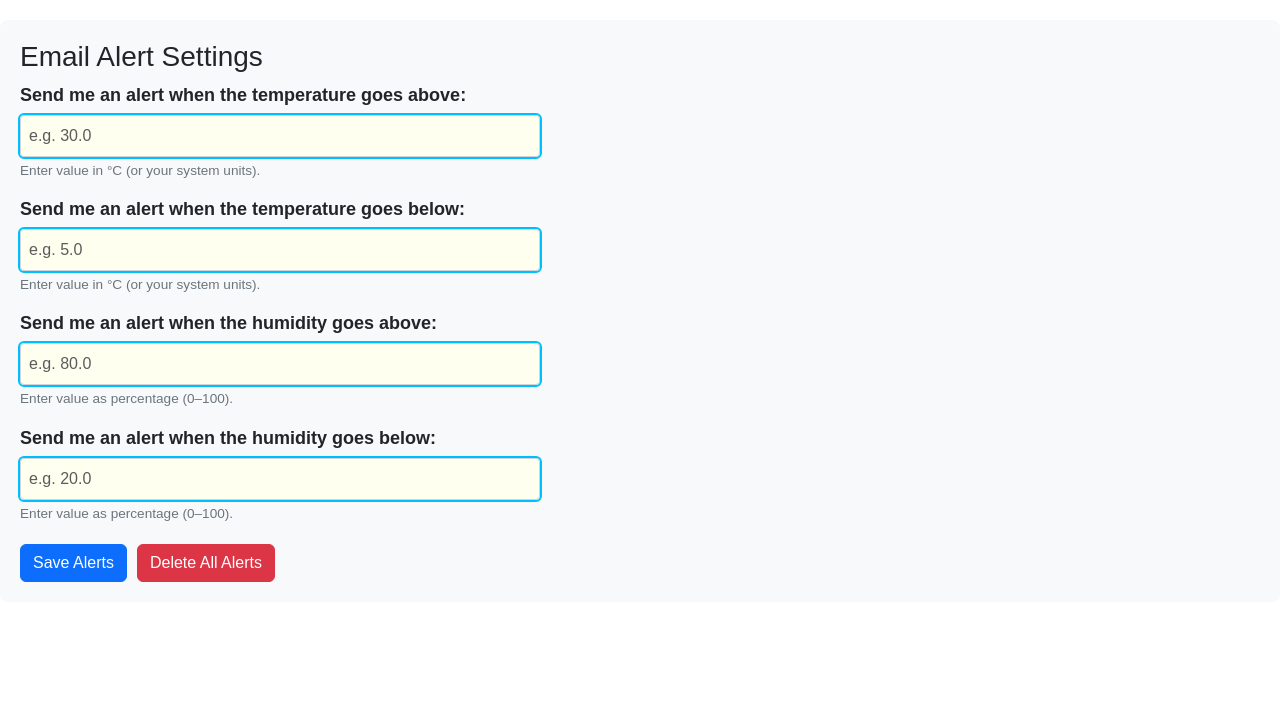
Test case: EmailAlerts › deletes thresholds successfully
Click the button "Delete All Alerts" at (206, 563), box [137,544,275,582]
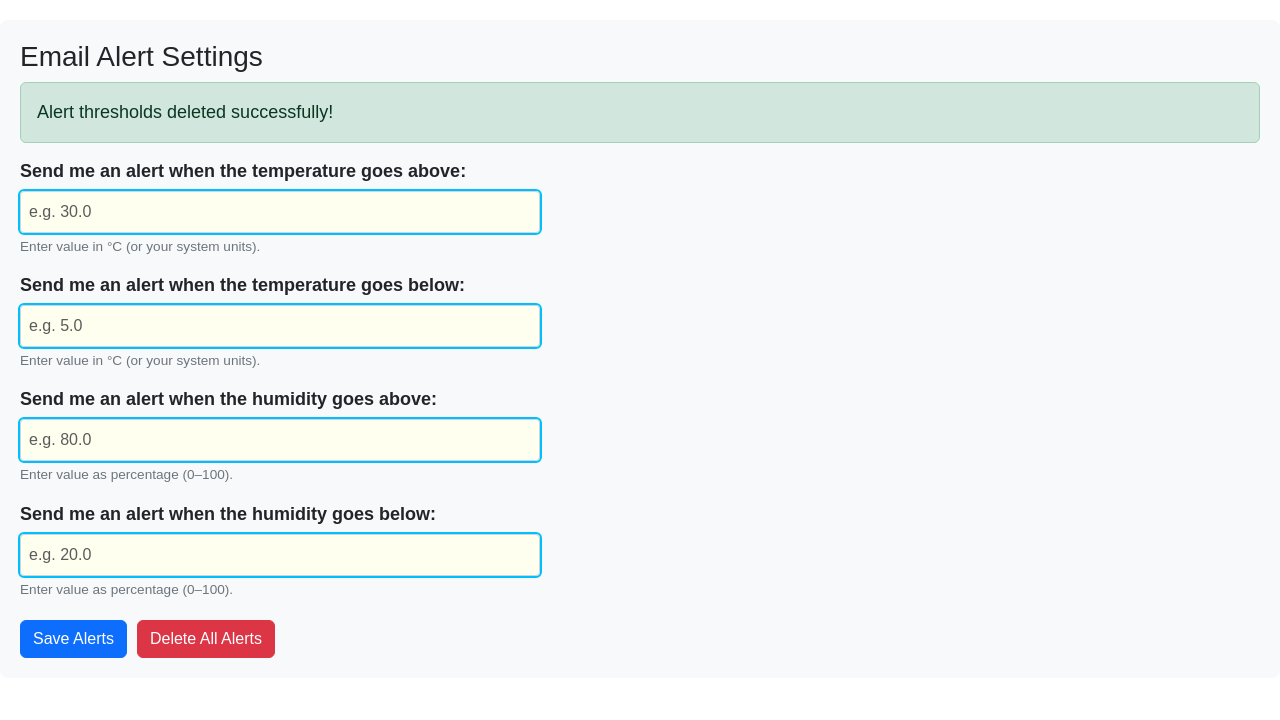
Expected: the text "Alert thresholds deleted successfully!" is shown, [20,82,1260,143]
